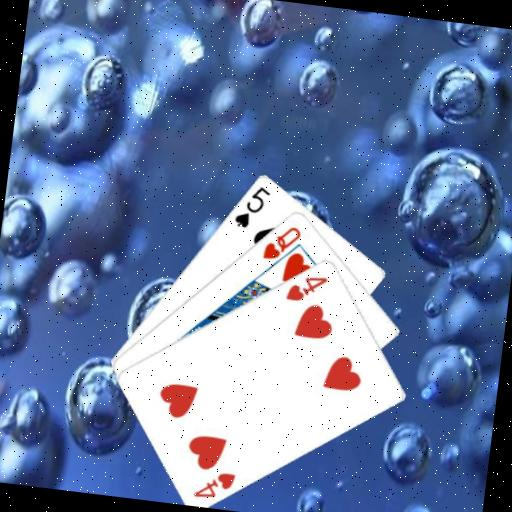4H: (190, 465, 239, 504), (282, 269, 331, 307)
5S: (230, 180, 273, 233)
QH: (259, 219, 304, 264)
